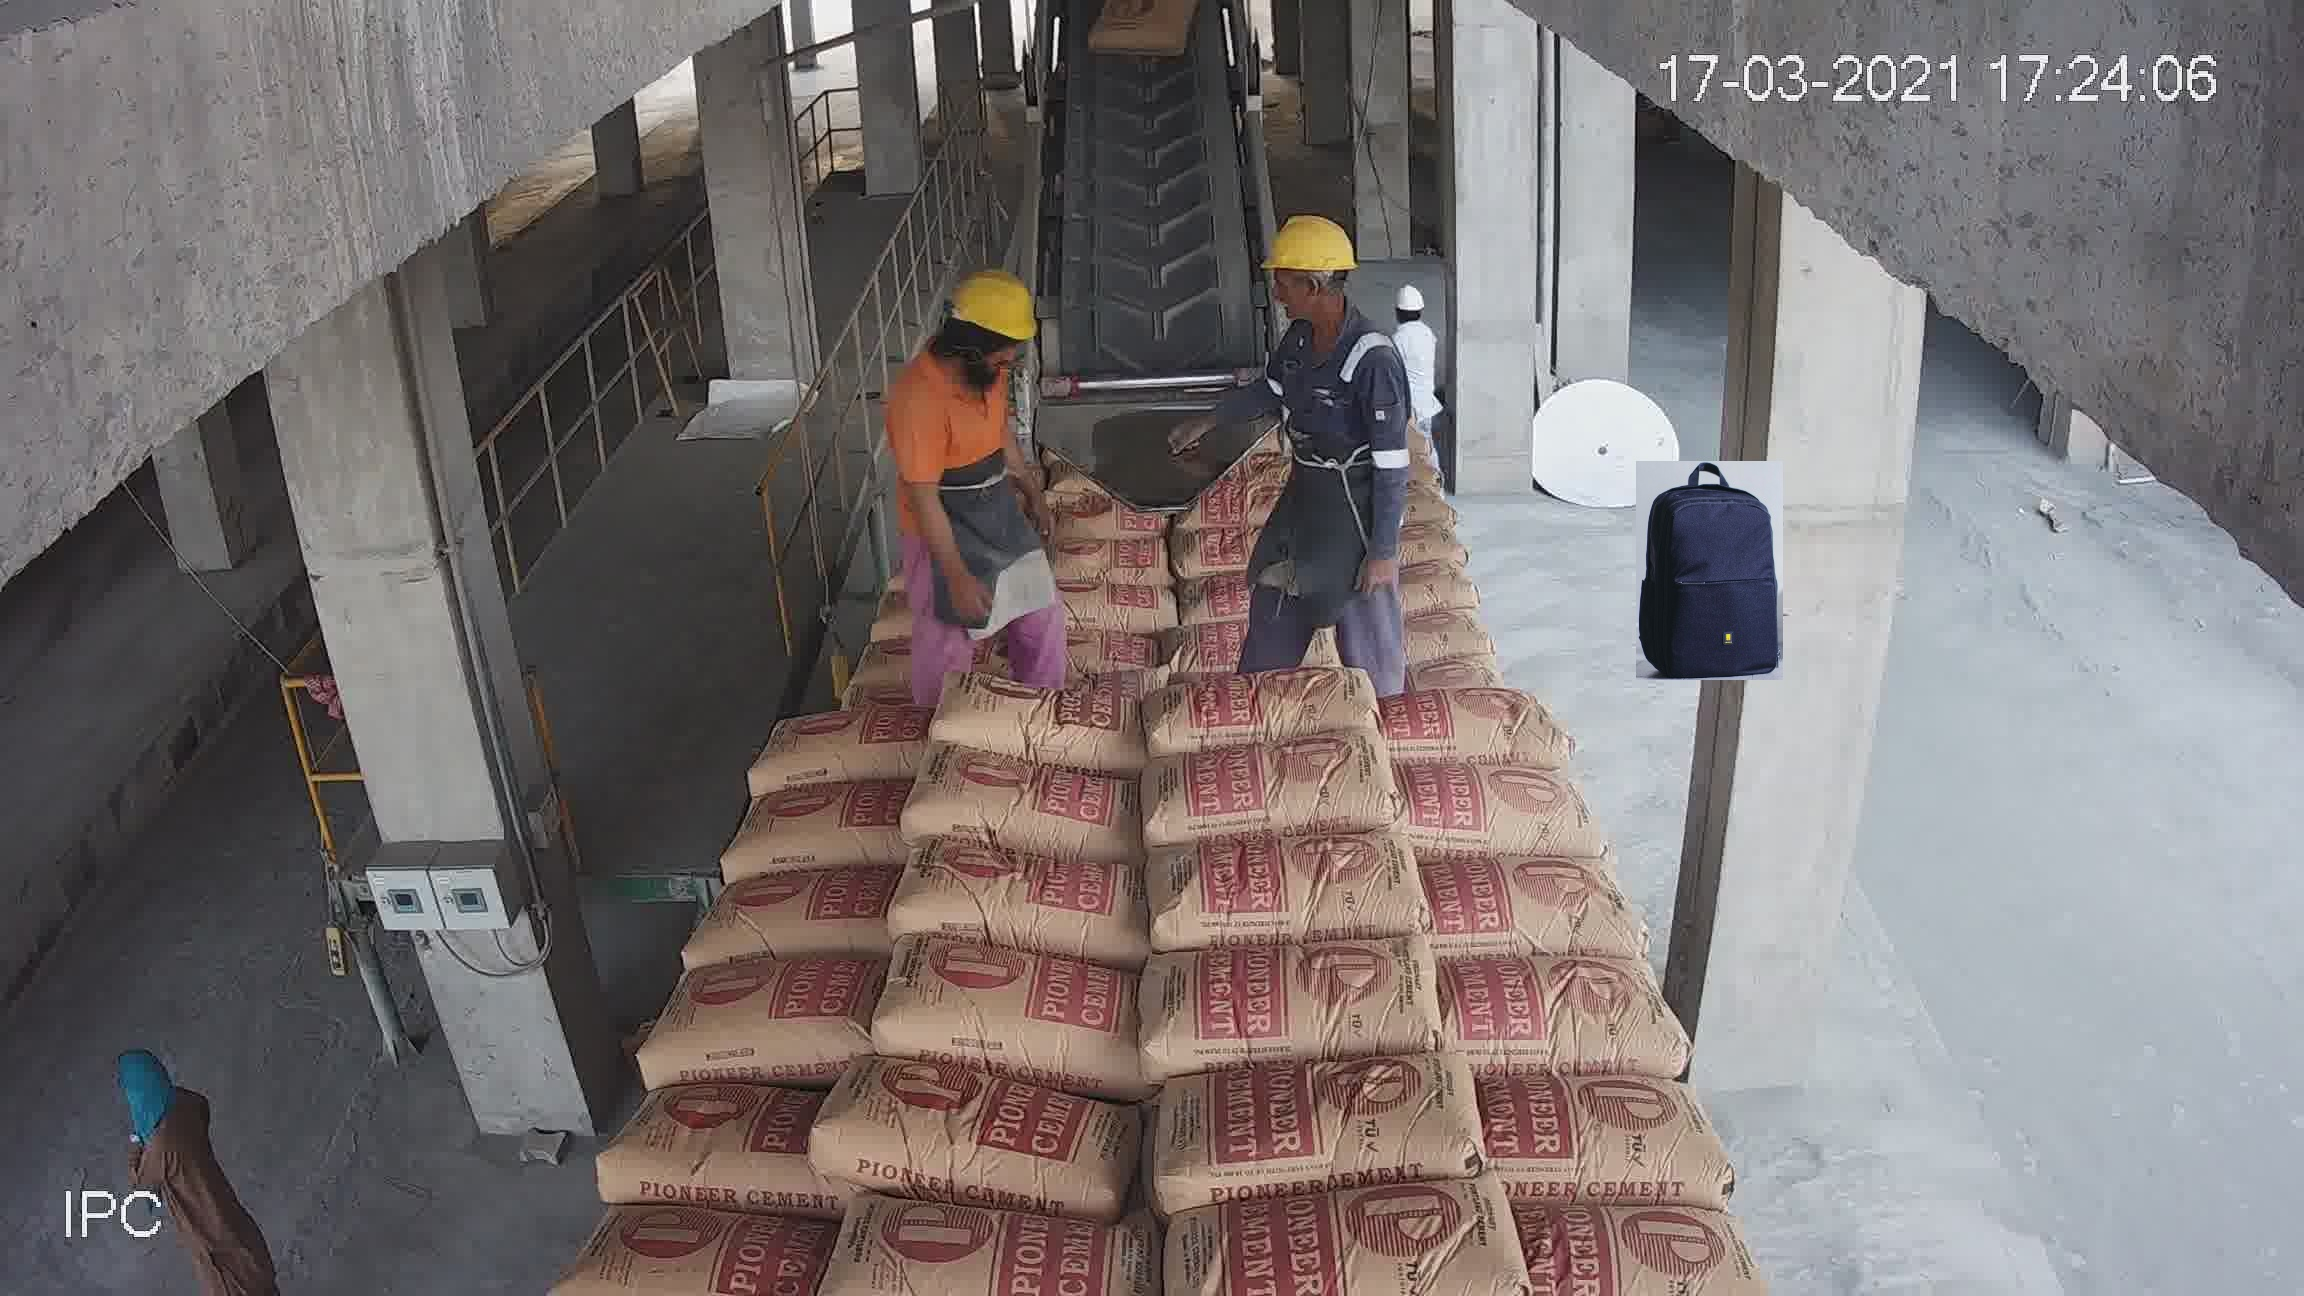bag: (1249, 335, 1412, 421), (1105, 146, 1215, 261)
bag_h: (1109, 1157, 1522, 1296), (821, 1048, 1143, 1196), (1141, 1063, 1506, 1188), (1154, 927, 1438, 1078), (1487, 1040, 1720, 1185), (619, 967, 885, 1092), (1146, 831, 1442, 942), (1124, 652, 1389, 772), (861, 942, 1150, 1046), (834, 1209, 1166, 1294), (1163, 582, 1404, 692), (1405, 859, 1624, 976), (1429, 956, 1679, 1055), (1177, 733, 1399, 837), (919, 752, 1147, 851), (668, 864, 872, 970), (1529, 1195, 1764, 1285), (919, 843, 1127, 945), (726, 704, 927, 801), (555, 1203, 799, 1280), (962, 673, 1165, 764), (590, 1116, 798, 1204), (1120, 440, 1323, 530), (1157, 532, 1358, 609), (782, 563, 965, 646), (1408, 777, 1598, 856), (1342, 543, 1521, 625), (1378, 684, 1570, 760), (731, 790, 907, 872), (1342, 492, 1513, 574), (1339, 608, 1524, 679), (786, 646, 972, 715), (1146, 497, 1332, 565), (978, 609, 1152, 677), (1331, 446, 1480, 521), (831, 473, 980, 544), (962, 571, 1150, 627), (999, 506, 1144, 570), (813, 533, 972, 585), (995, 468, 1144, 517), (1168, 350, 1242, 402), (923, 426, 1005, 472), (935, 383, 1000, 437), (1173, 388, 1233, 445)
belt: (1043, 13, 1249, 347)
